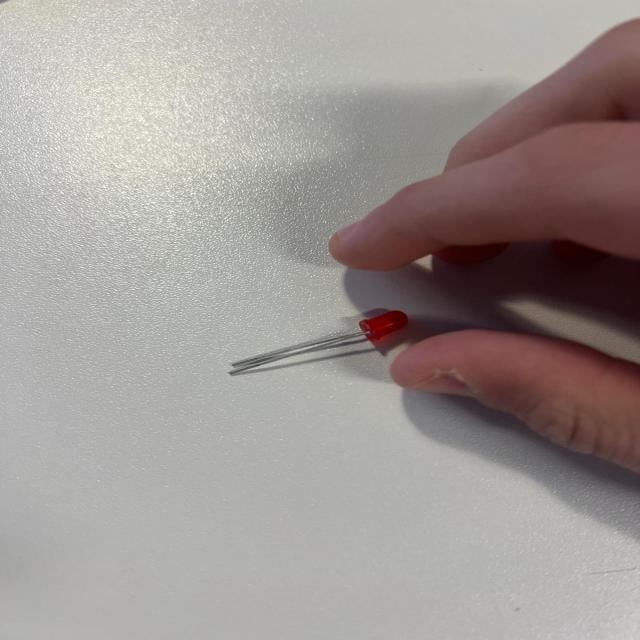REDLed: (216, 295, 447, 380)
